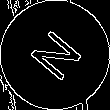N_SE: (23, 23, 87, 87)
